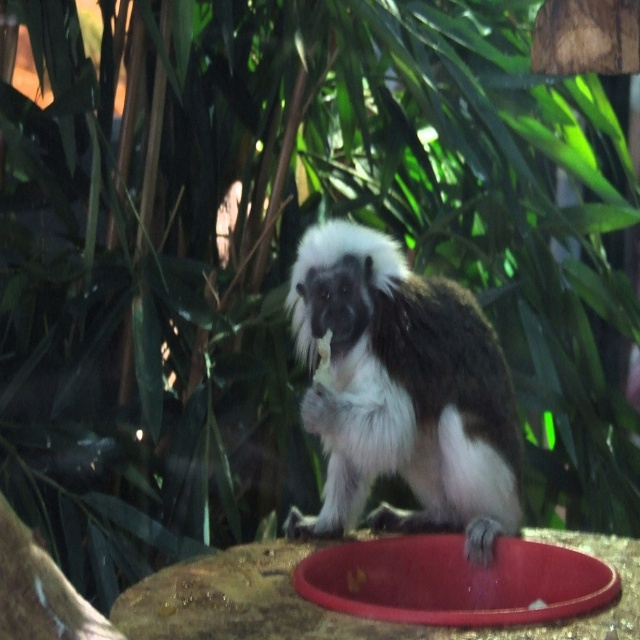Monkey: (269, 212, 554, 570)
